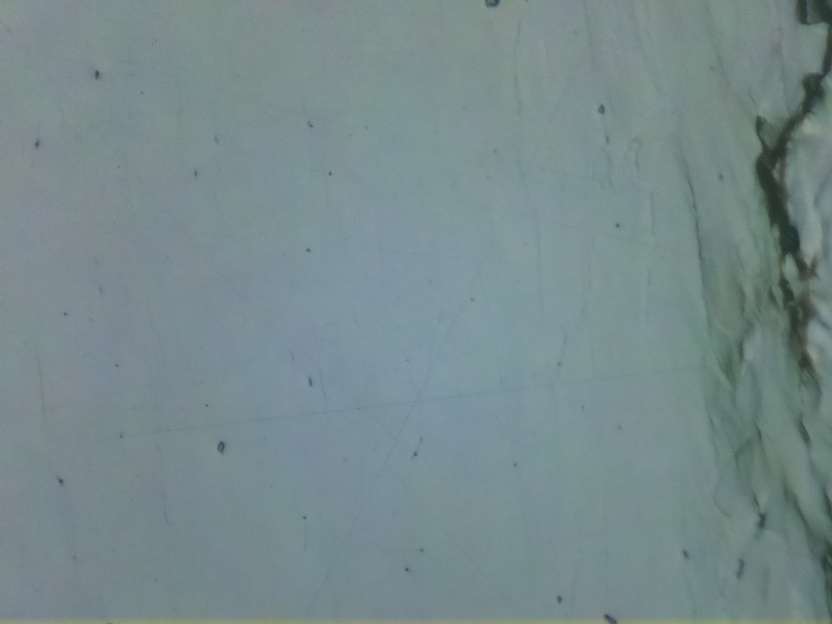crack: (755, 0, 832, 385)
